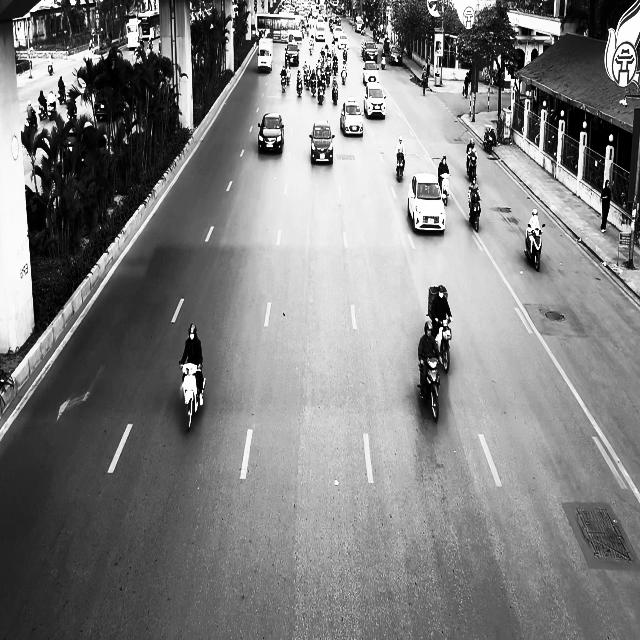bus: (256, 13, 303, 44)
car: (408, 172, 446, 233), (309, 119, 335, 164), (258, 112, 284, 153), (363, 81, 387, 119), (340, 100, 364, 136), (363, 61, 379, 84), (285, 42, 300, 65), (363, 42, 378, 62), (389, 45, 403, 65), (338, 33, 349, 50)
motorbike: (179, 362, 206, 431), (418, 355, 442, 422), (524, 223, 546, 271), (434, 317, 453, 372), (468, 192, 482, 232), (438, 172, 450, 206), (467, 154, 477, 182), (484, 126, 494, 153), (396, 152, 405, 181), (317, 84, 325, 104), (281, 74, 288, 92), (332, 85, 338, 105)
